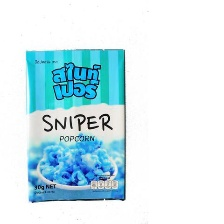snack: (15, 41, 134, 209)
